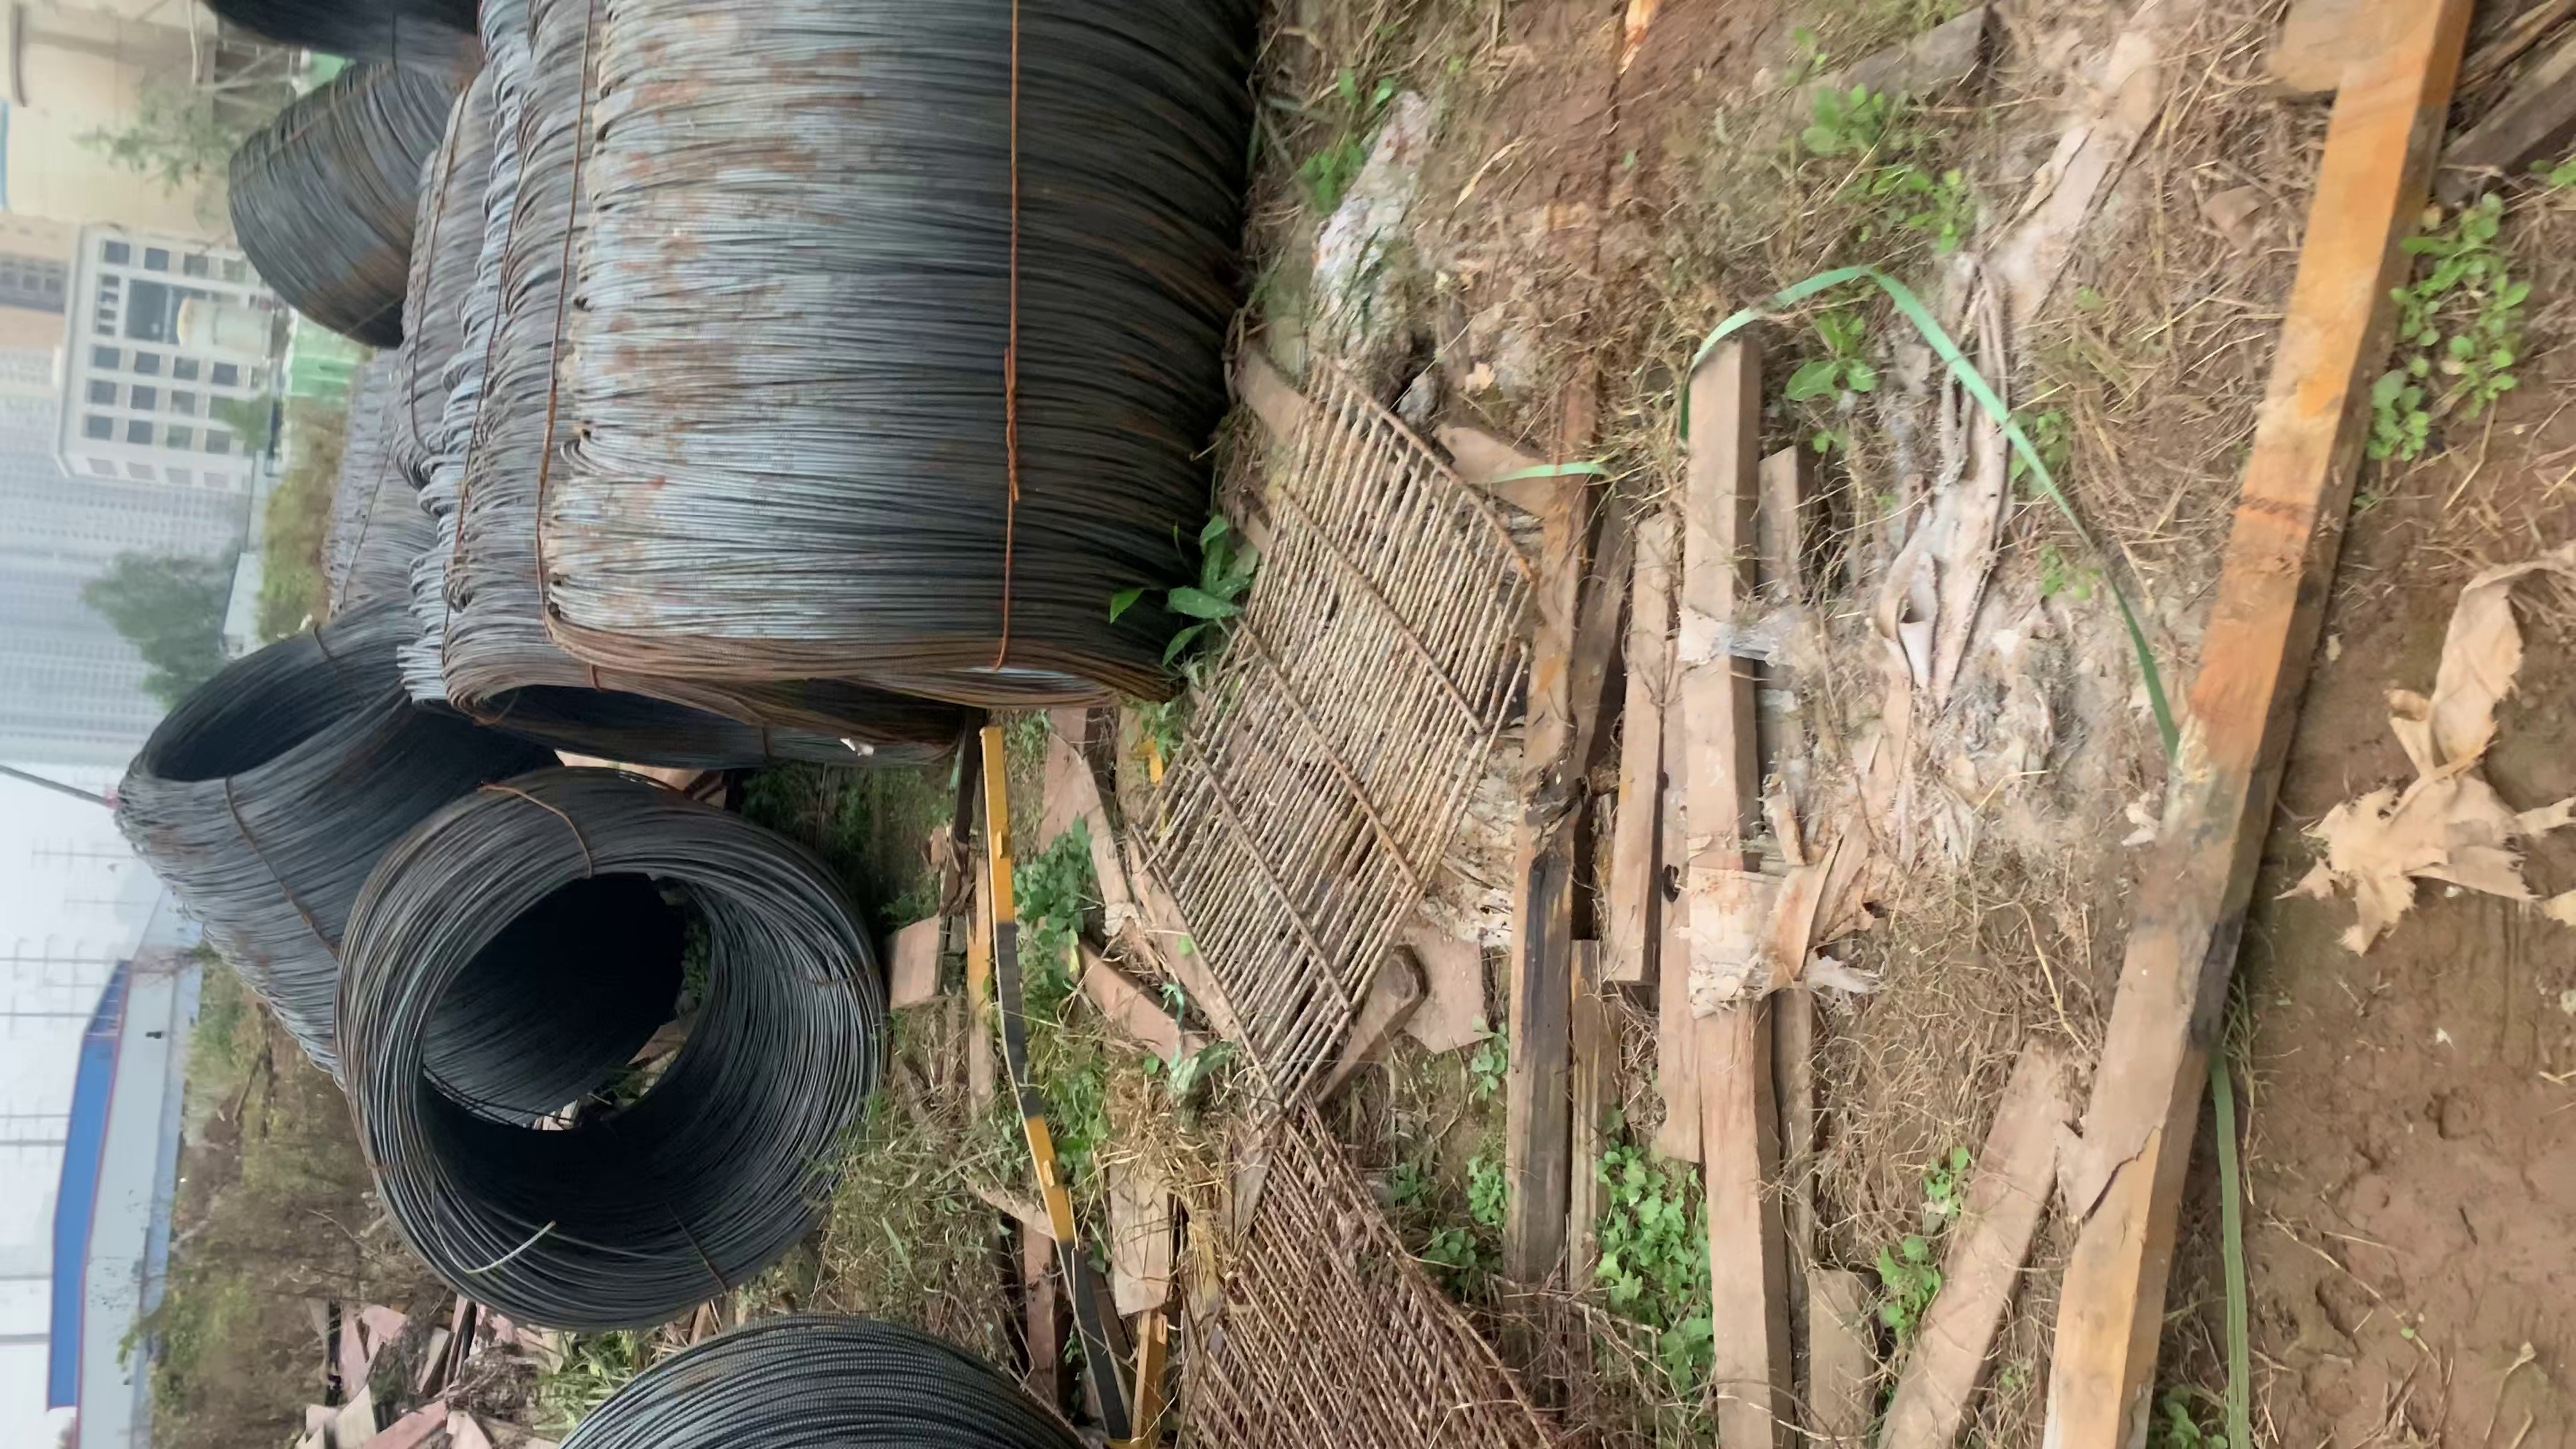coil: (356, 840, 888, 1311), (536, 607, 1214, 725), (88, 591, 453, 809), (402, 667, 989, 786)
